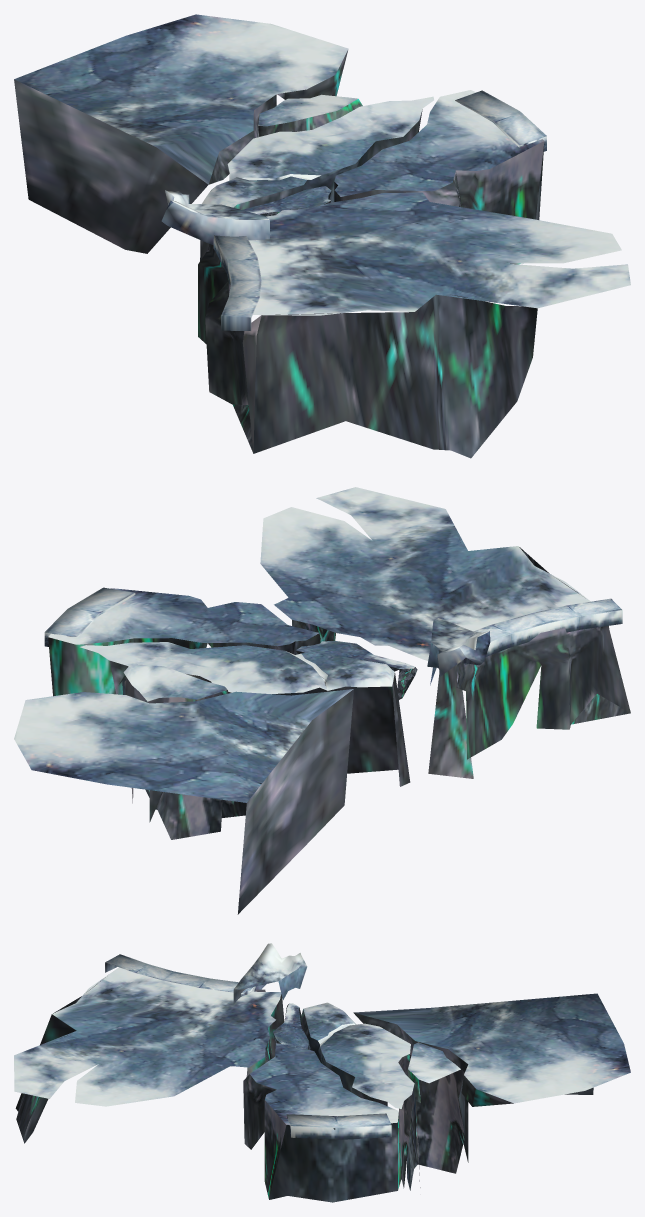
File: S_Build_Snowland206_4.FBX
The picture shows the model from 3 angles, top to bottom: view 1: azimuth 30°, elevation 25°; view 2: azimuth 150°, elevation 25°; view 3: azimuth 270°, elevation 25°; orthographic projection. The views are drawn at different scales.
Parts seen in each view (by area): view 1: S_Build_Snowland206_4; view 2: S_Build_Snowland206_4; view 3: S_Build_Snowland206_4.
Part boxes in pixels (x1,y1,x2,y2): S_Build_Snowland206_4: (14, 14, 630, 458); S_Build_Snowland206_4: (14, 487, 630, 914); S_Build_Snowland206_4: (14, 943, 630, 1202).
Size of the model in its own units: 714 by 1089 by 290.
